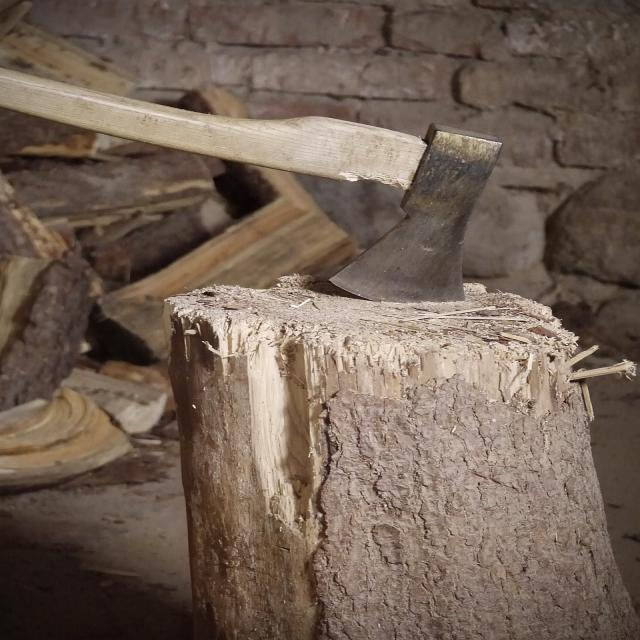Axe: (0, 68, 501, 301)
